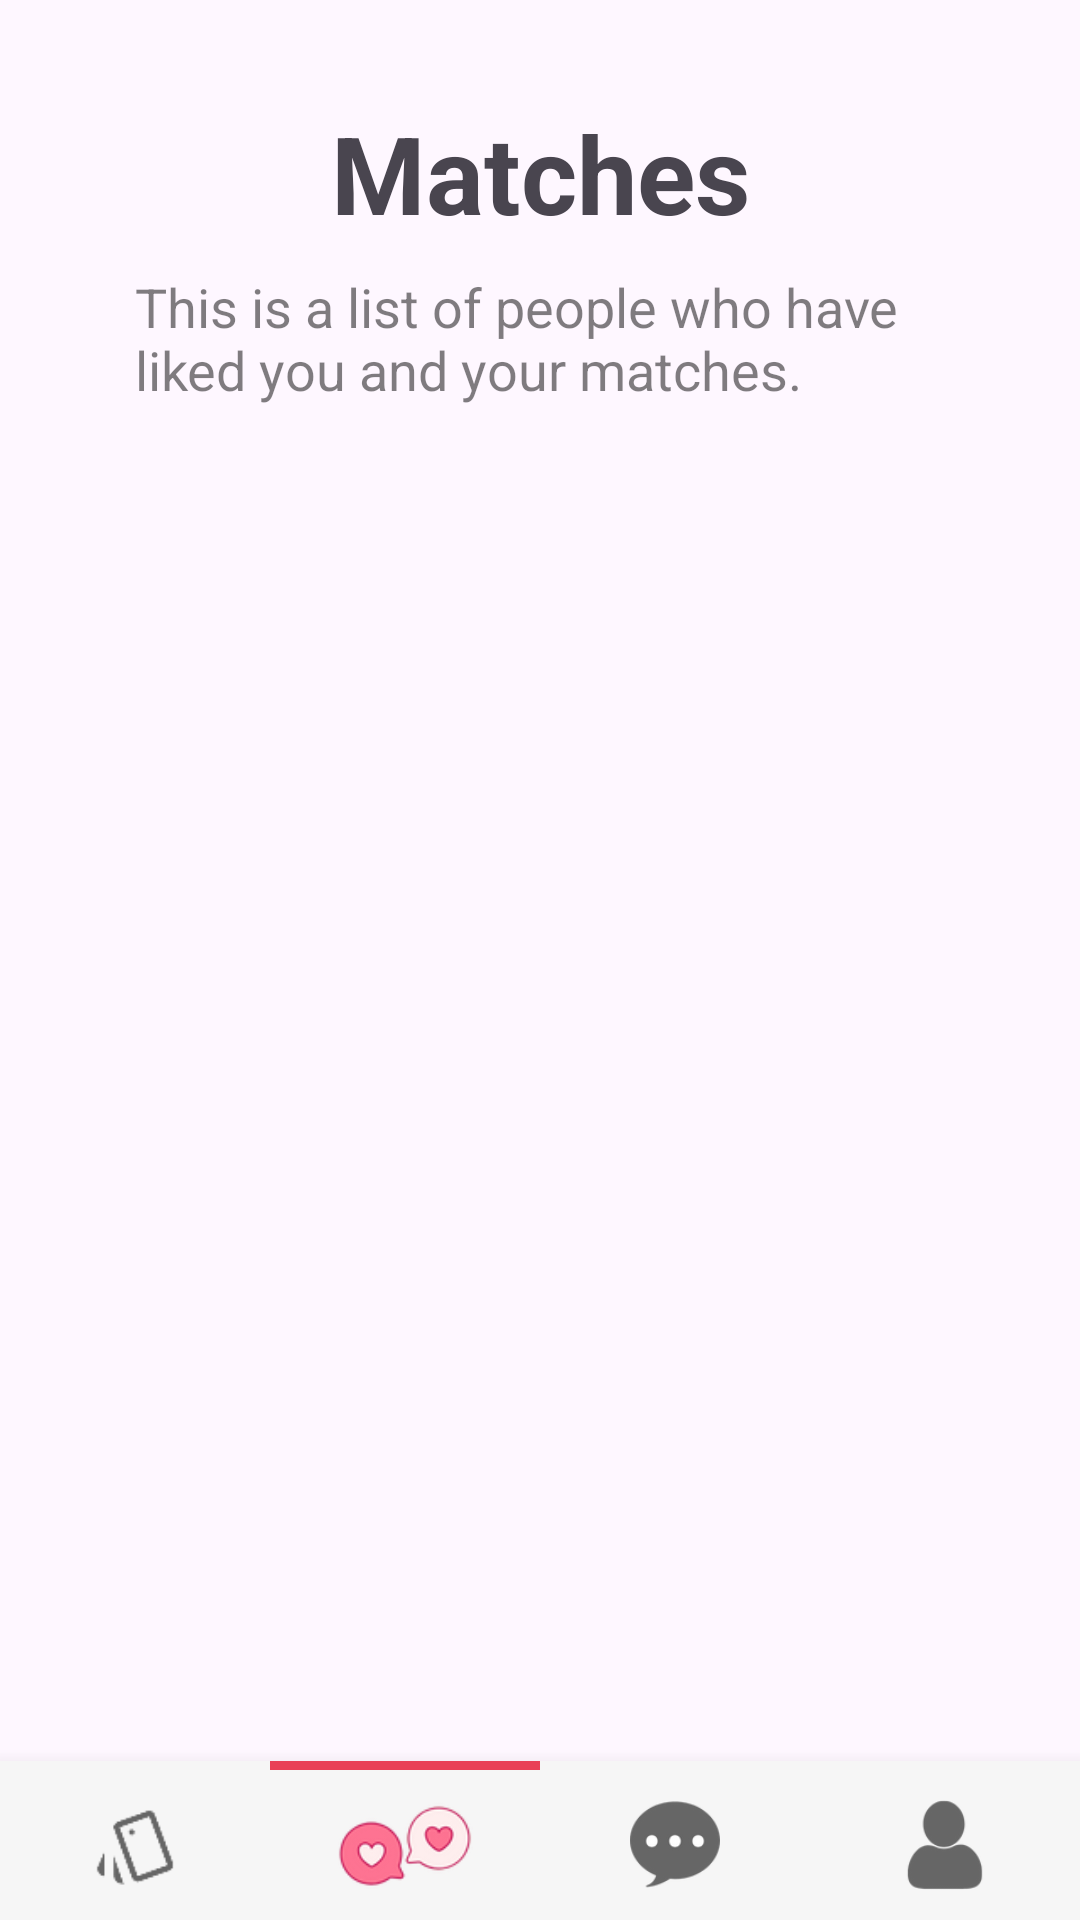

Named icons in this screenshot (1080px x 1920px) and their centers, (x,y):
messages: (675,1844)
profile: (944,1845)
